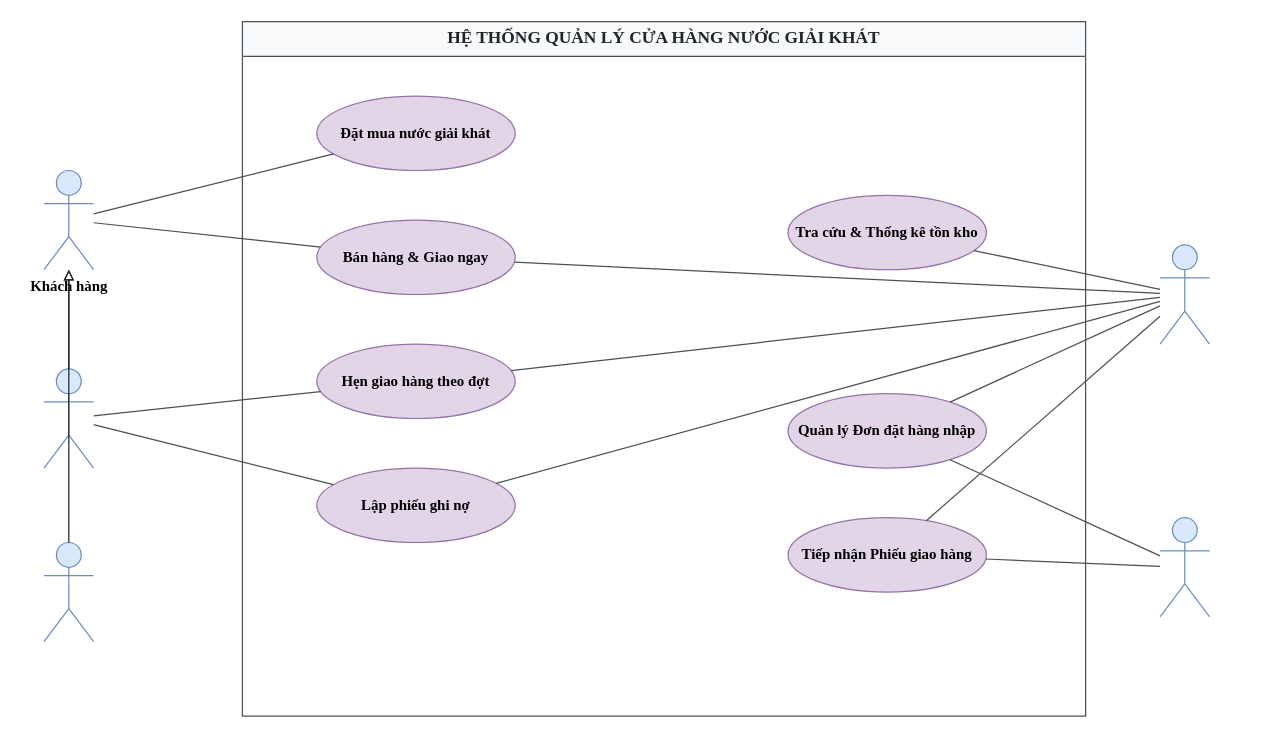
Image size: 1270x738. Some labels were removed from this diagram. Each missing label, with the box of its shape:
Khách quen: (43, 368, 94, 468)
Khách vãng lai: (43, 541, 94, 642)
Nhà cung ứng: (1159, 516, 1210, 617)
Nhân viên cửa hàng: (1159, 244, 1210, 344)
